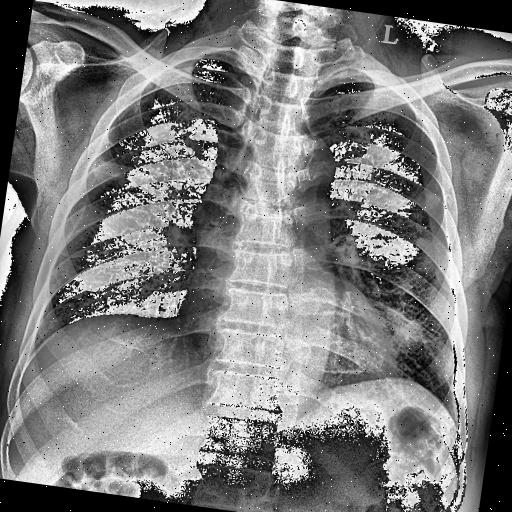2- Calcification: (408, 172, 452, 219), (418, 186, 446, 214)
5- ILD: (338, 278, 482, 414), (338, 250, 470, 392), (37, 266, 189, 350)
6- Infiltration: (90, 144, 144, 192)
7- Lung Opacity: (94, 133, 180, 205), (84, 148, 142, 197), (414, 182, 449, 214)
